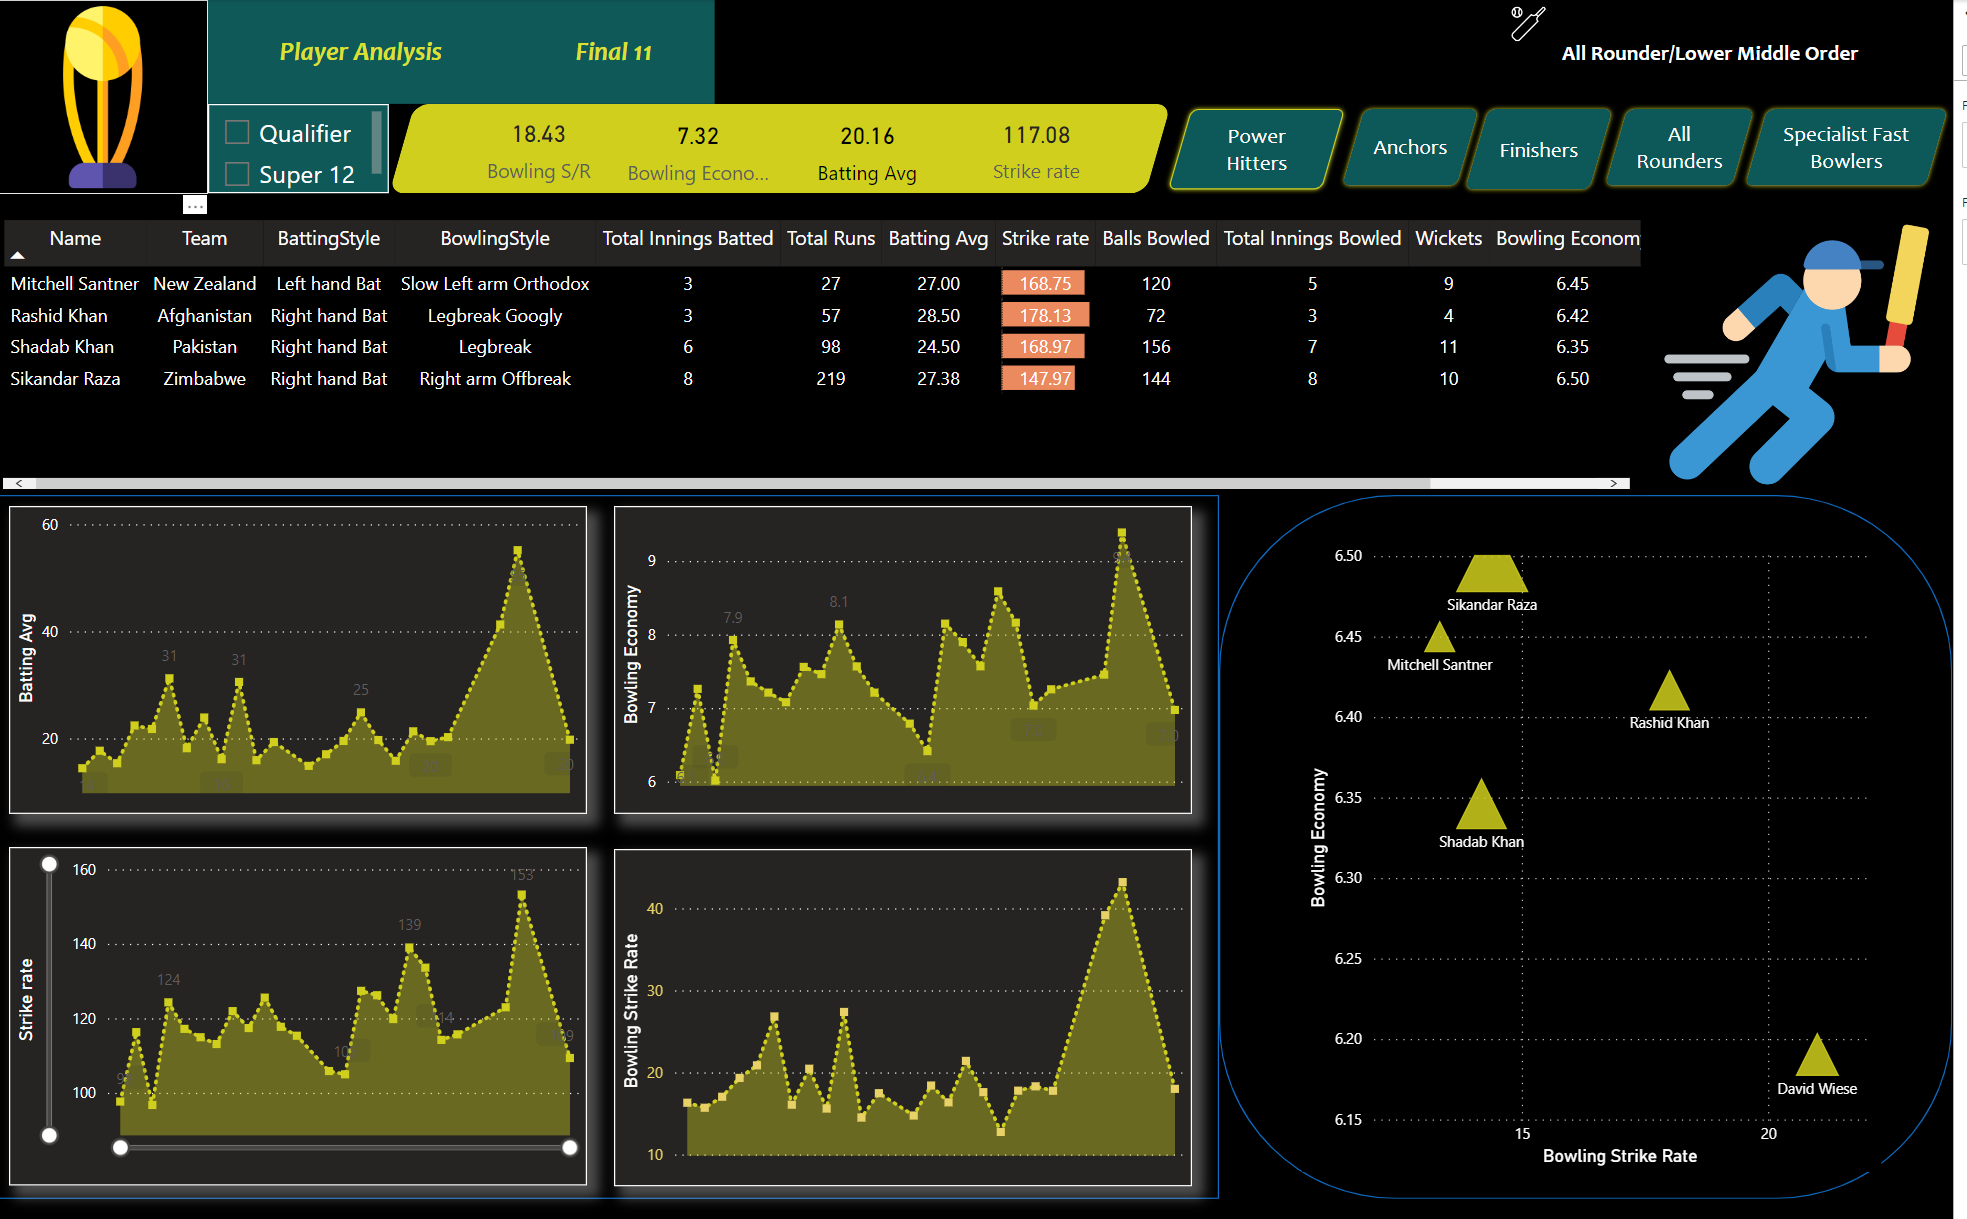

What the dashboard file says about the page in this screenshot:
{"tool":"powerbi","page":{"name":"All Rounder1/lower middle order","canvas":[1600,1000],"ordinal":3},"visuals":[{"type":"shape","box":[1281.1,2.8,318.7,82.6],"z":0,"group":"g1"},{"type":"shape","box":[321,85.1,639.5,72.9],"z":0},{"type":"image","box":[1226.1,0,53.9,38.7],"z":1000,"group":"g1"},{"type":"card","fields":{"Values":["key_measures.Bowling Economy"]},"box":[506.8,86.2,134,71.7],"z":1000},{"type":"card","fields":{"Values":["key_measures.Strike rate"]},"box":[784.2,86.3,132.5,69.3],"z":2000},{"type":"card","fields":{"Values":["key_measures.Bowling Strike Rate"]},"box":[379.7,86.2,127.1,69.1],"z":3000},{"type":"card","fields":{"Values":["key_measures.Batting Avg"]},"box":[640.8,86.2,143.3,71.7],"z":4000},{"type":"actionButton","title":"Button Player Ana selected","box":[172.4,0,250,85],"z":5000},{"type":"actionButton","title":"Button Player Ana selected","box":[422.4,0,165,85],"z":6000},{"type":"actionButton","box":[954.4,85.1,153.2,74.2],"z":7000},{"type":"actionButton","box":[1096.4,85.3,120.3,70.8],"z":8000},{"type":"actionButton","box":[1197.6,85.1,128.9,74.2],"z":9000},{"type":"actionButton","box":[1311.9,85.1,130.1,70.5],"z":10000},{"type":"actionButton","box":[1426.1,85.1,173.9,70.5],"z":11000},{"type":"slicer","fields":{"Values":["Dim_match_summary.stage"]},"box":[172.6,85.1,148.3,72.9],"z":12000},{"type":"shape","box":[0,405.2,1000,576.4],"z":13000},{"type":"areaChart","fields":{"Y":["key_measures.Batting Avg"],"Category":["Dim_match_summary.matchDate"]},"box":[9.9,413.8,472.9,252.5],"z":14000},{"type":"areaChart","fields":{"Category":["Dim_match_summary.matchDate"],"Y":["key_measures.Bowling Economy"]},"box":[504.9,413.8,472.9,252.5],"z":15000},{"type":"areaChart","fields":{"Y":["key_measures.Strike rate"],"Category":["Dim_match_summary.matchDate"]},"box":[9.9,693.3,472.9,277.1],"z":16000},{"type":"areaChart","fields":{"Category":["Dim_match_summary.matchDate"],"Y":["key_measures.Bowling Strike Rate"]},"box":[504.9,694.6,472.9,275.9],"z":17000},{"type":"shape","box":[1000,405.3,599.8,575.9],"z":18000},{"type":"scatterChart","fields":{"Size":["key_measures.Total Runs"],"Category":["Dim_players.name"],"X":["key_measures.Bowling Strike Rate"],"Y":["key_measures.Bowling Economy"]},"box":[1067.7,440.9,474.1,518.5],"z":19000},{"type":"image","box":[0,0,172.4,158.9],"z":20000},{"type":"tableEx","fields":{"Values":["Dim_players.name","Dim_players.team","Dim_players.battingStyle","Dim_players.bowlingStyle","key_measures.Total Innings Batted","key_measures.Total Runs","key_measures.Batting Avg","key_measures.Strike rate","key_measures.balls Bowled","key_measures.Total Innings Bowled","key_measures.wickets","key_measures.Bowling Economy"]},"box":[0,174.9,1349.8,230.4],"z":21000},{"type":"group","id":"g1","title":"Group 2","box":[1226.1,0,373.7,85.3],"z":22000},{"type":"image","box":[1349.8,174.9,250,230.4],"z":23000}]}

Visuals, with their boxes in screenshot pixels (x1, y1, x2, y2), scaled from the page's 1600x1000 canvas onto the 1967x1219 screenshot:
shape: crop(1575, 3, 1966, 104)
shape: crop(395, 104, 1181, 193)
image: crop(1507, 0, 1574, 47)
card - key_measures.Bowling Economy: crop(623, 105, 788, 192)
card - key_measures.Strike rate: crop(964, 105, 1127, 190)
card - key_measures.Bowling Strike Rate: crop(467, 105, 623, 189)
card - key_measures.Batting Avg: crop(788, 105, 964, 192)
"Button Player Ana selected" actionButton: crop(212, 0, 519, 104)
"Button Player Ana selected" actionButton: crop(519, 0, 722, 104)
actionButton: crop(1173, 104, 1362, 194)
actionButton: crop(1348, 104, 1496, 190)
actionButton: crop(1472, 104, 1631, 194)
actionButton: crop(1613, 104, 1773, 190)
actionButton: crop(1753, 104, 1966, 190)
slicer - Dim_match_summary.stage: crop(212, 104, 395, 193)
shape: crop(0, 494, 1229, 1197)
areaChart - key_measures.Batting Avg x Dim_match_summary.matchDate: crop(12, 504, 594, 812)
areaChart - Dim_match_summary.matchDate x key_measures.Bowling Economy: crop(621, 504, 1202, 812)
areaChart - key_measures.Strike rate x Dim_match_summary.matchDate: crop(12, 845, 594, 1183)
areaChart - Dim_match_summary.matchDate x key_measures.Bowling Strike Rate: crop(621, 847, 1202, 1183)
shape: crop(1229, 494, 1966, 1196)
scatterChart - key_measures.Total Runs x Dim_players.name: crop(1313, 537, 1895, 1170)
image: crop(0, 0, 212, 194)
tableEx - Dim_players.name x Dim_players.team: crop(0, 213, 1659, 494)
"Group 2" group: crop(1507, 0, 1966, 104)
image: crop(1659, 213, 1966, 494)
